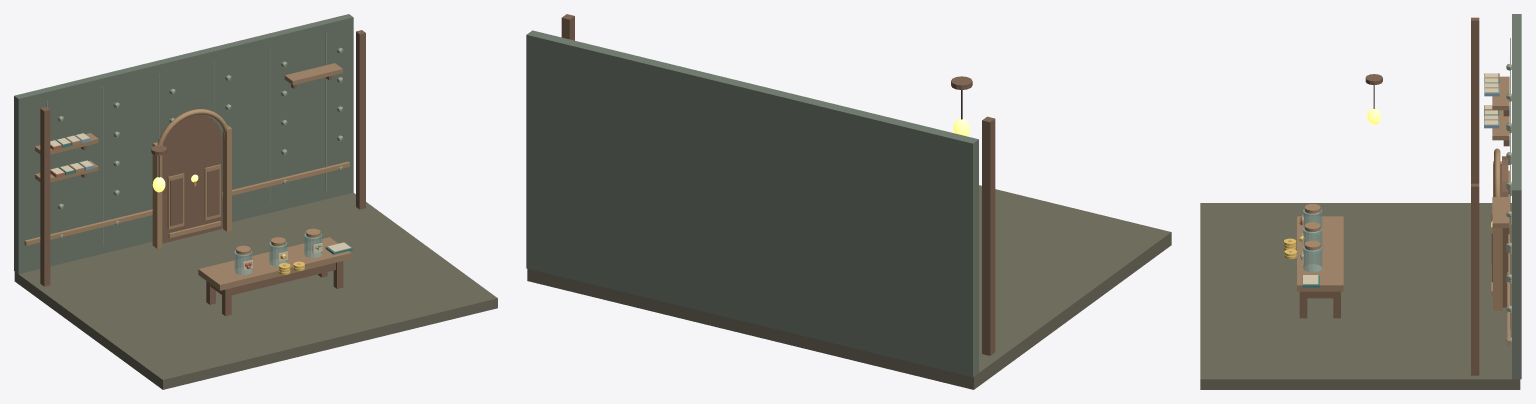
File: savings-room.glb
The picture shows the model from 3 angles, left to right: view 1: azimuth 30°, elevation 25°; view 2: azimuth 150°, elevation 25°; view 3: azimuth 270°, elevation 25°; orthographic projection. The views are drawn at different scales.
Visible parts, largest first — view 1: Room 1 back wall, Room 1 floor, Arched dream door, Savings table top, Open-set corner post, Open-set corner post.001, Back wall dado rail, Door jamb.001, Door jamb, Table apron, Shelf board.002, Door inset shadow.001 (+3 smaller); view 2: Room 1 back wall, Room 1 floor, Open-set corner post; view 3: Room 1 floor, Room 1 back wall, Savings table top, Open-set corner post.001, Open-set corner post, Door jamb.001, Arched dream door, Shelf board.002, Shelf board, Frosted jar body.002, Shelf board.001, Door arch frame (+3 smaller).
Part boxes in pixels (x1,y1,x2,y2): Room 1 back wall: (14, 14, 353, 274); Room 1 floor: (14, 192, 497, 389); Arched dream door: (160, 114, 221, 243); Savings table top: (198, 237, 351, 290); Open-set corner post: (40, 107, 50, 286); Open-set corner post.001: (356, 30, 365, 209); Back wall dado rail: (24, 161, 349, 245); Door jamb.001: (222, 125, 231, 231); Door jamb: (152, 142, 162, 248); Table apron: (210, 262, 335, 295); Shelf board.002: (284, 63, 342, 85); Door inset shadow.001: (207, 168, 219, 216); Room 1 back wall: (526, 30, 978, 377); Room 1 floor: (527, 185, 1171, 389); Open-set corner post: (982, 116, 995, 355); Room 1 floor: (1200, 203, 1520, 389); Room 1 back wall: (1512, 14, 1521, 379); Savings table top: (1297, 216, 1343, 291); Open-set corner post.001: (1471, 183, 1479, 375); Open-set corner post: (1471, 17, 1479, 183); Door jamb.001: (1493, 228, 1502, 310); Arched dream door: (1502, 156, 1508, 307); Shelf board.002: (1492, 197, 1509, 227); Shelf board: (1492, 76, 1509, 110); Frosted jar body.002: (1303, 245, 1322, 272); Shelf board.001: (1492, 110, 1509, 140); Door arch frame: (1494, 148, 1500, 196).
Size of the model in its own units: 12 by 6.34 by 9.24.
